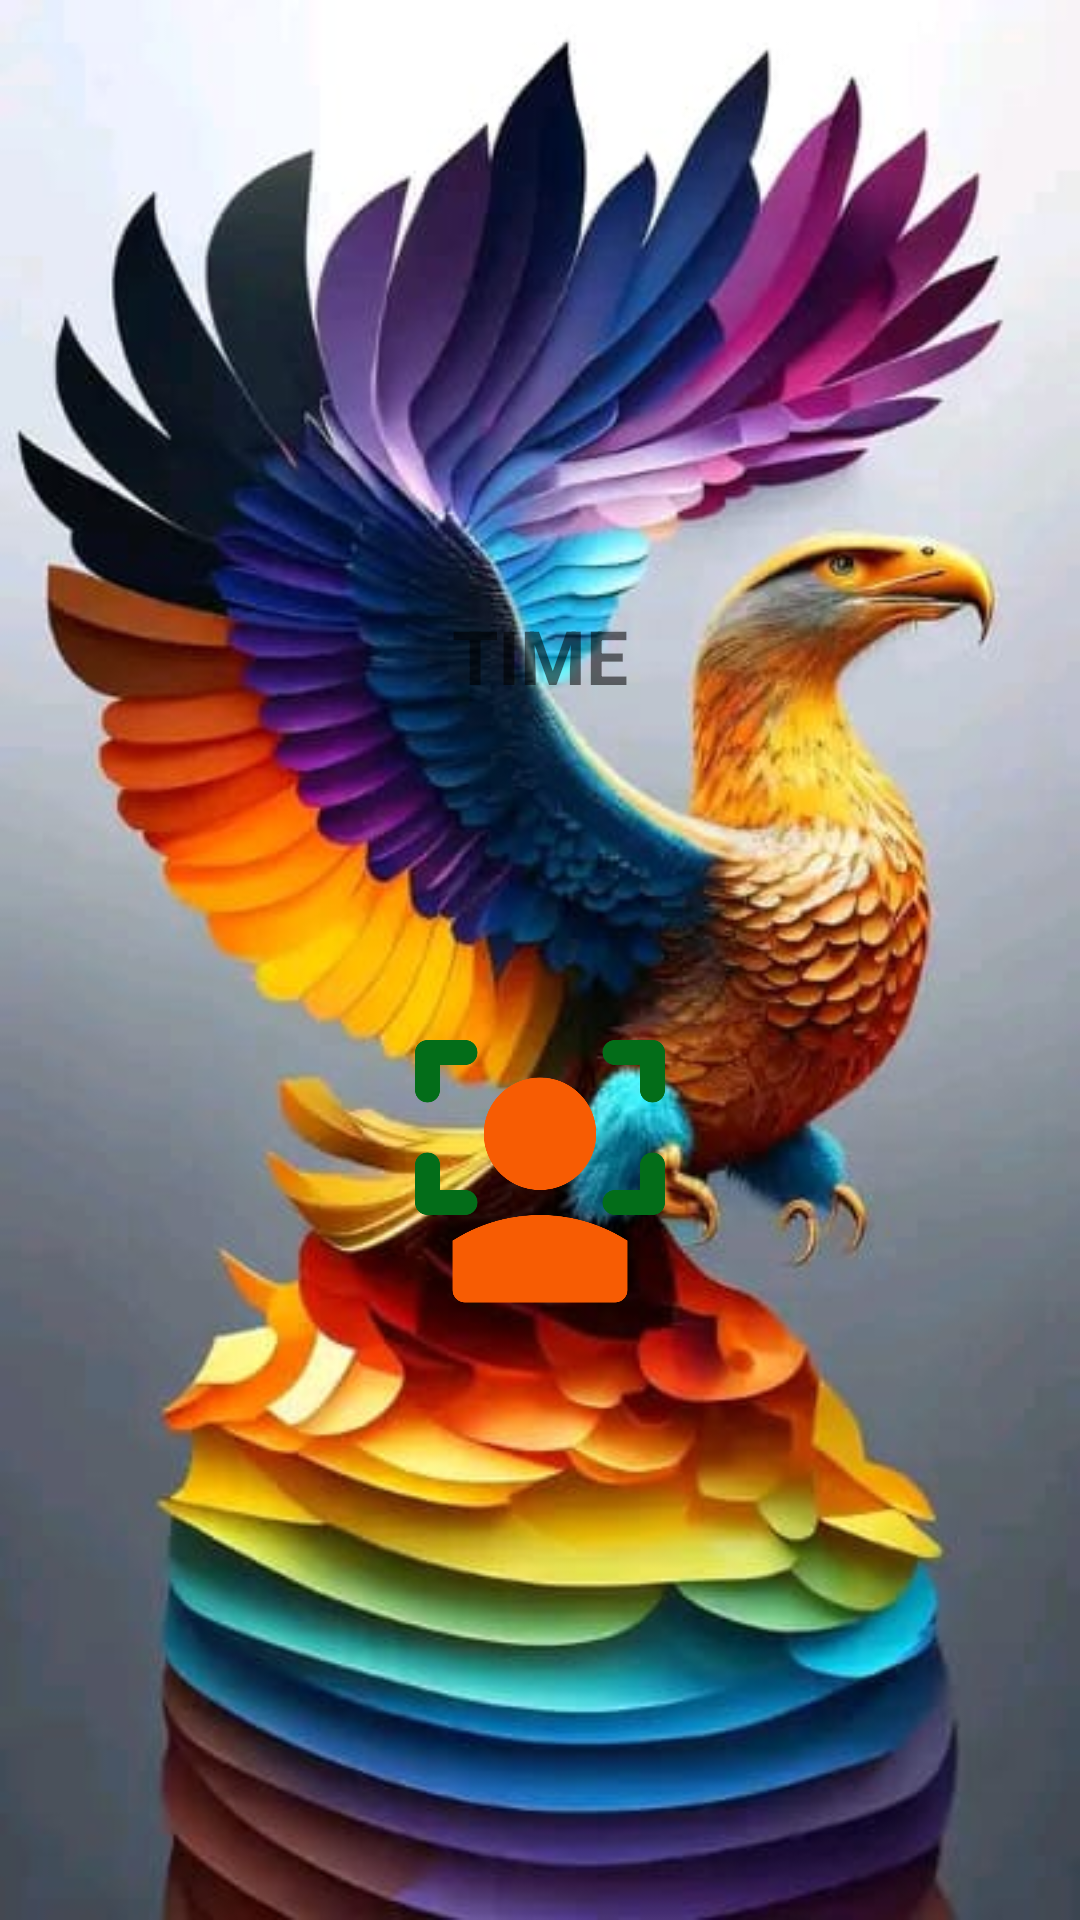

Where to tap for icons on this 1080px x 1920px app screen, as point (x, y):
facial rec: point (540, 1165)
